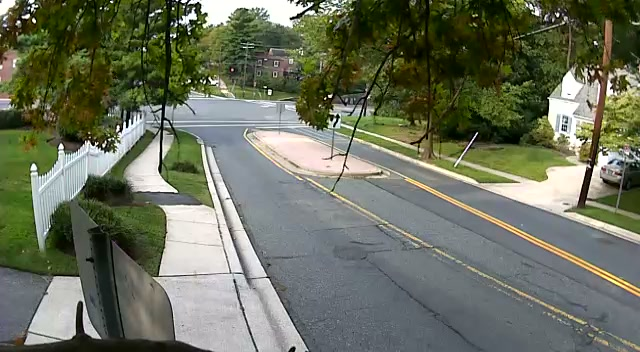car: (599, 152, 640, 189)
